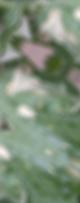Tomato leaf bacterial spot: (0, 50, 80, 187)
